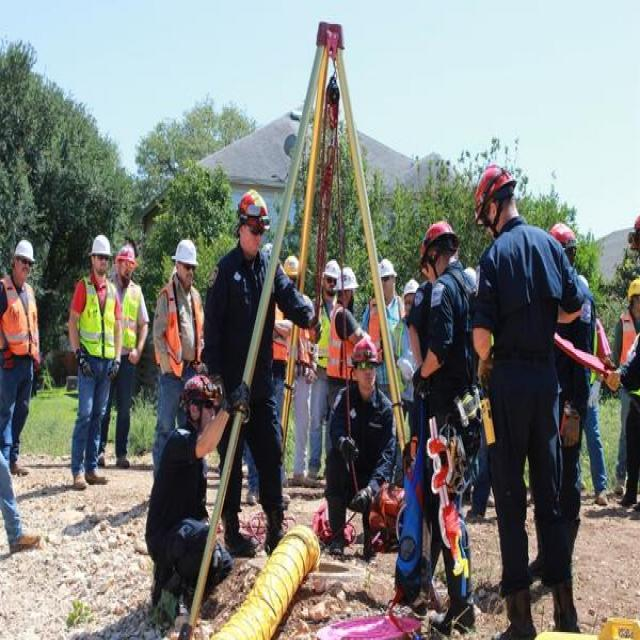Reflective-Jacket: (156, 278, 205, 379), (76, 277, 120, 366), (0, 278, 42, 364), (315, 300, 351, 378), (115, 277, 140, 356), (619, 313, 640, 404)
Safety-Helmet: (470, 157, 520, 214), (233, 182, 275, 234), (183, 373, 222, 404), (170, 232, 200, 269), (352, 335, 381, 368), (333, 261, 360, 296), (373, 251, 400, 285), (114, 238, 139, 268), (89, 229, 114, 259), (12, 235, 37, 264), (321, 253, 344, 283), (626, 276, 640, 302)
